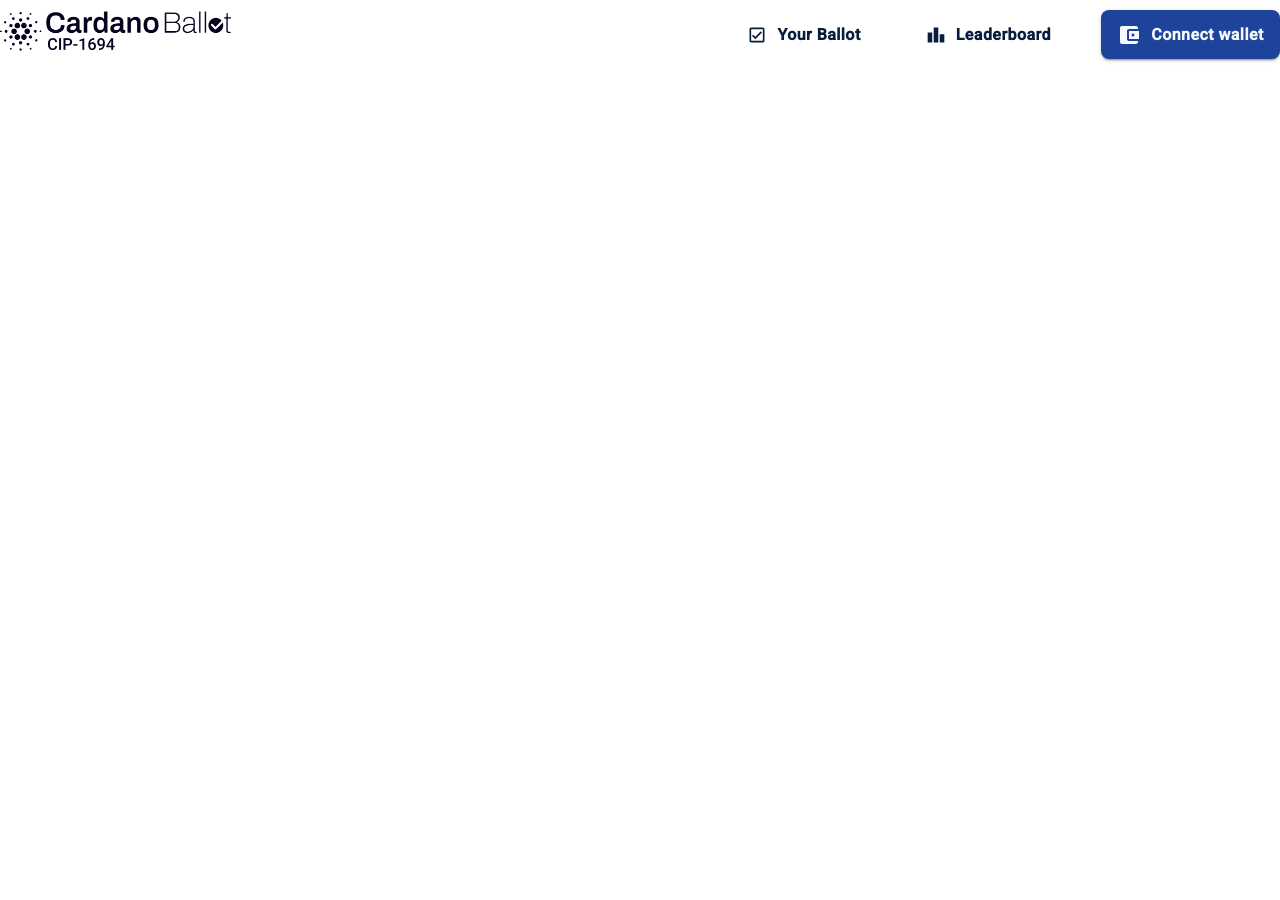
For ongoing event: › should not have leaderboard link disabled if there is no tip fetched
Click the button with test id "leaderboard-link" at {"x": 988, "y": 34}, box [901, 10, 1076, 59]
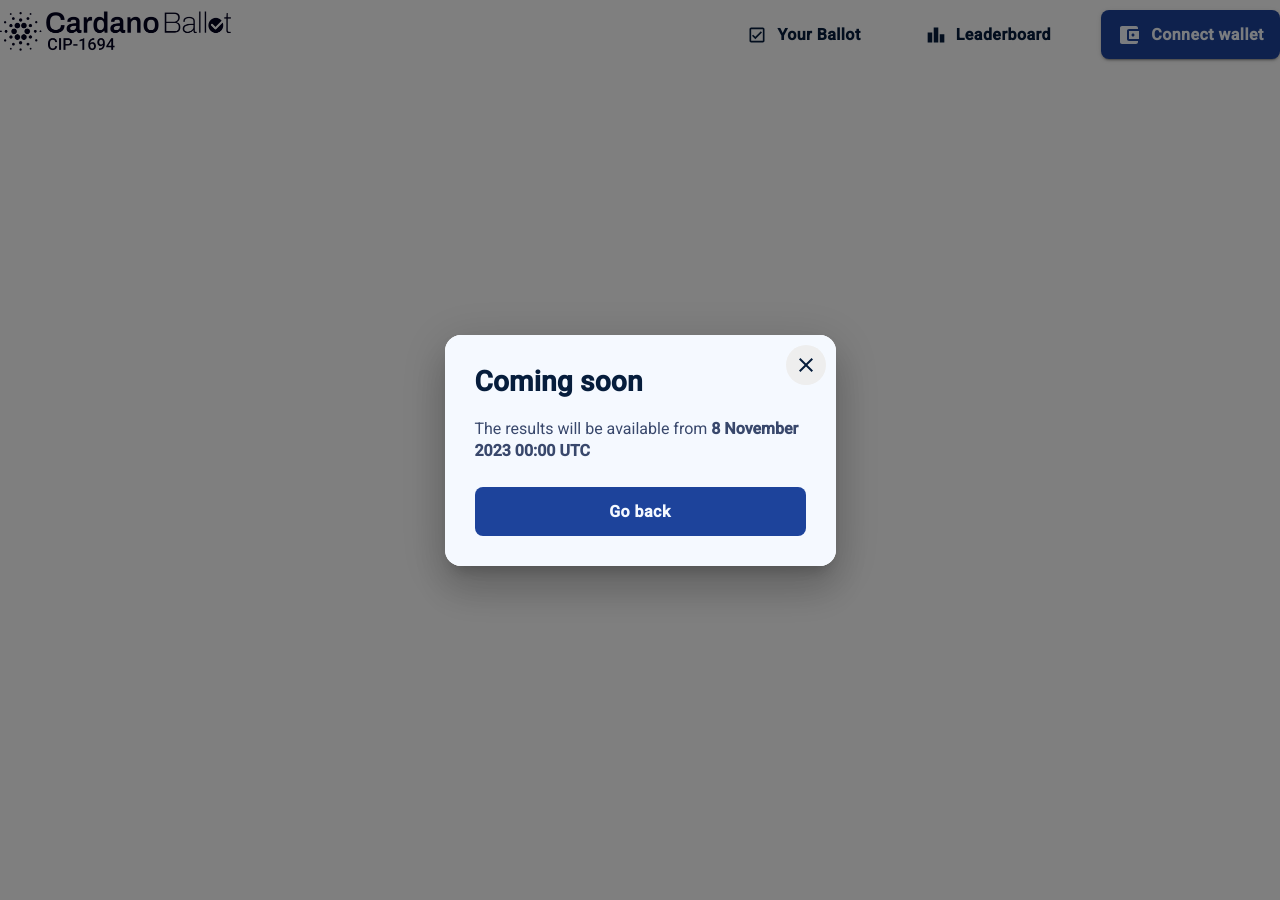
Result: the element with test id "result-comming-soon-modal" is shown
